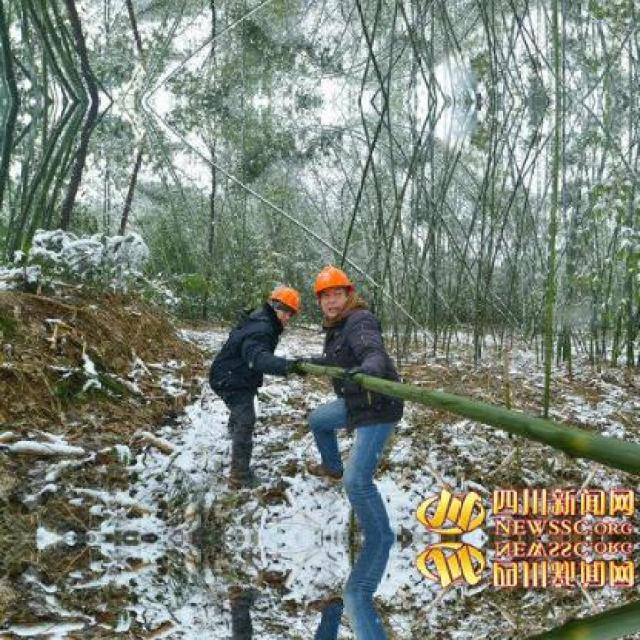helmet: (310, 264, 355, 317), (265, 284, 304, 322)
